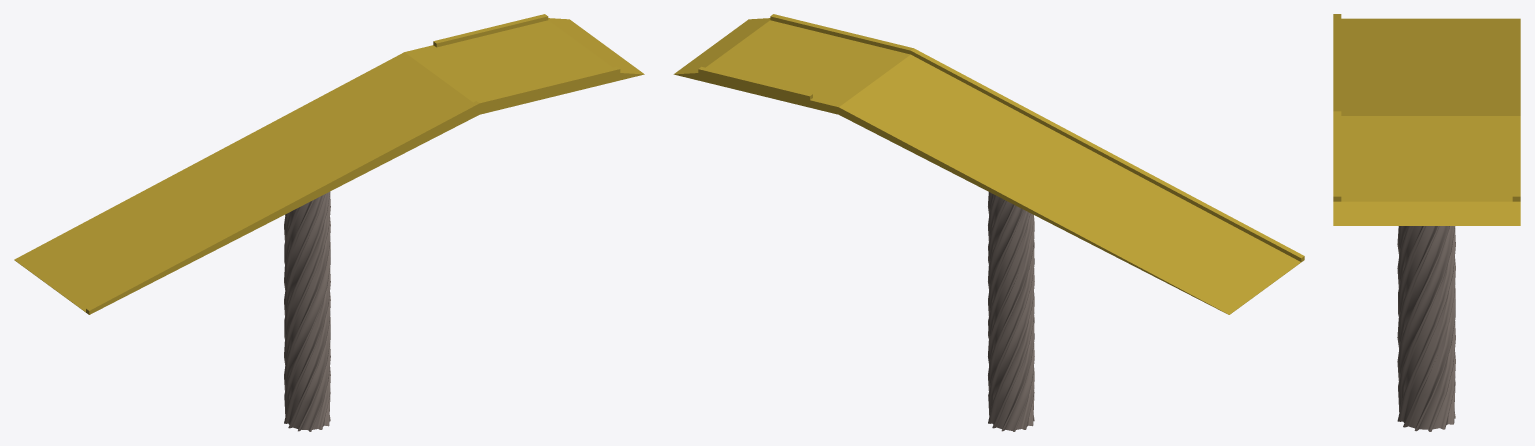
The model's file is rot7_wow.gltf.
The picture shows the model from 3 angles, left to right: view 1: azimuth 30°, elevation 25°; view 2: azimuth 150°, elevation 25°; view 3: azimuth 270°, elevation 25°; orthographic projection. The views are drawn at different scales.
Parts seen in each view (by area): view 1: rot7.wow; view 2: rot7.wow; view 3: rot7.wow.
Boxes of the visible parts, <box> form: rot7.wow: <box>14,14,644,431</box>; rot7.wow: <box>673,14,1304,431</box>; rot7.wow: <box>1333,14,1520,431</box>.
Bounding box in the file's own units: 30.02 × 16.17 × 7.04.
